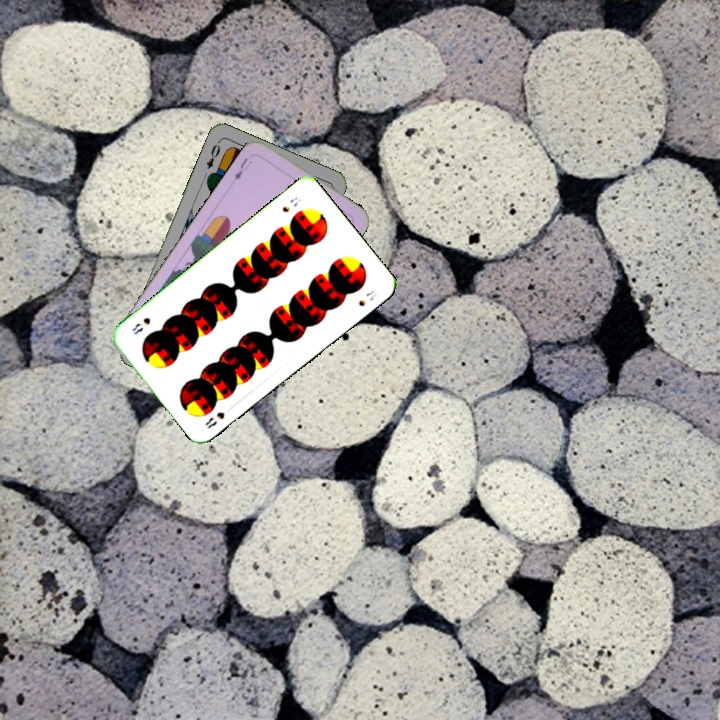EO: (202, 137, 223, 172)
EU: (230, 153, 255, 183)
S8: (201, 407, 227, 431), (278, 193, 304, 215)
